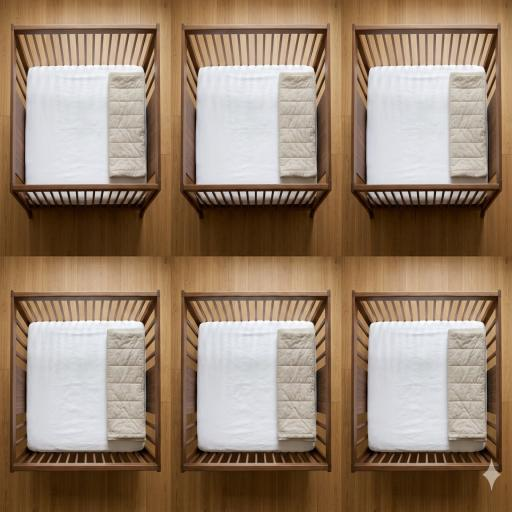crib: (181, 24, 331, 217), (11, 24, 161, 217), (10, 291, 160, 471), (182, 291, 331, 471), (368, 320, 487, 452), (366, 64, 488, 184)
